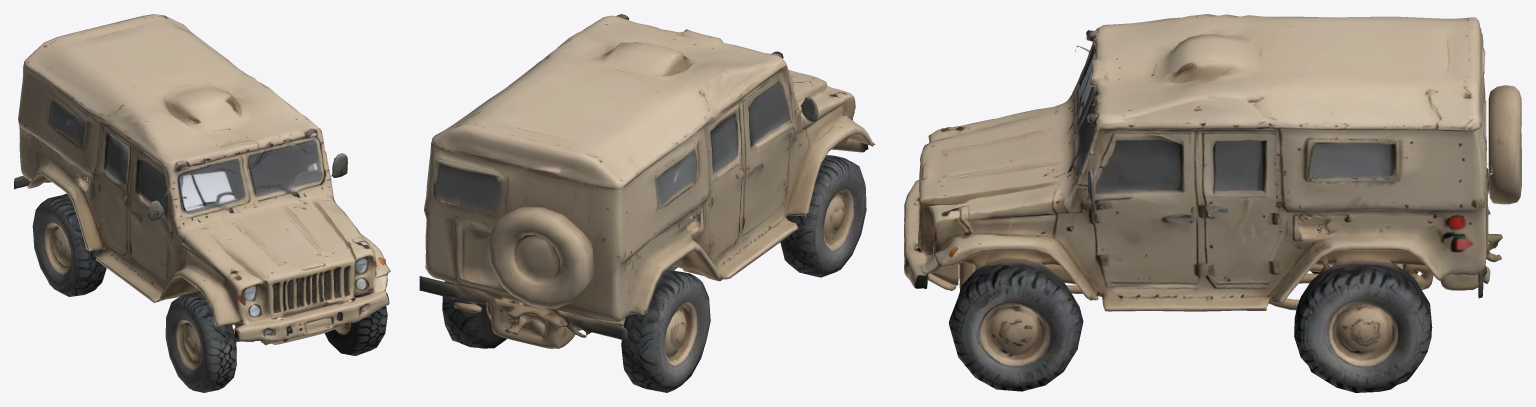
Rendered from v_armored.glb.
The picture shows the model from 3 angles, left to right: view 1: azimuth 30°, elevation 25°; view 2: azimuth 150°, elevation 25°; view 3: azimuth 270°, elevation 25°; orthographic projection. The views are drawn at different scales.
Visible parts, largest first — view 1: model; view 2: model; view 3: model.
Part boxes in pixels (x1,y1,x2,y2): model: (14, 14, 390, 392); model: (419, 14, 875, 392); model: (904, 14, 1521, 392).
Bounding box in the file's own units: 0.929 × 0.9838 × 1.88.
Materials: 1 (1 with a texture image).
